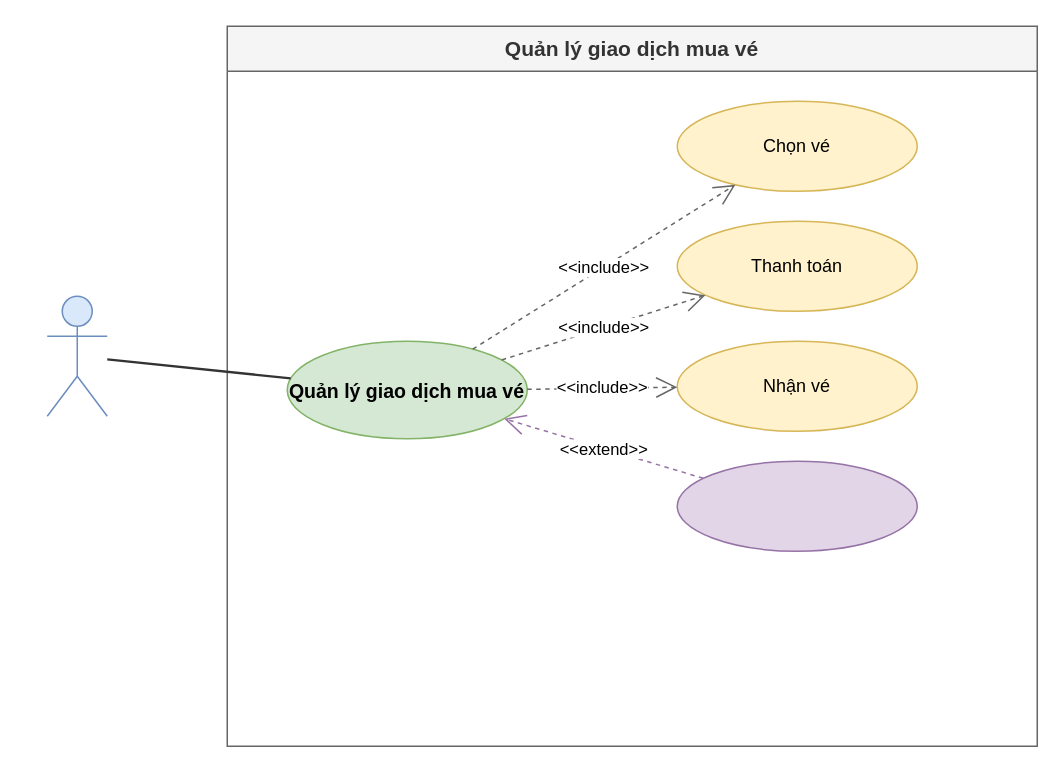
The diagram is 1064 pixels wide and 773 high, and some of its shapes have lost their labels. The shapes that lost their labels are listed below. From the top down, each one's box as (x1, y1, x2, y2) in pixels, then its label:
(46, 295, 107, 416): Khách hàng
(676, 460, 917, 551): Áp dụng mã giảm giá
